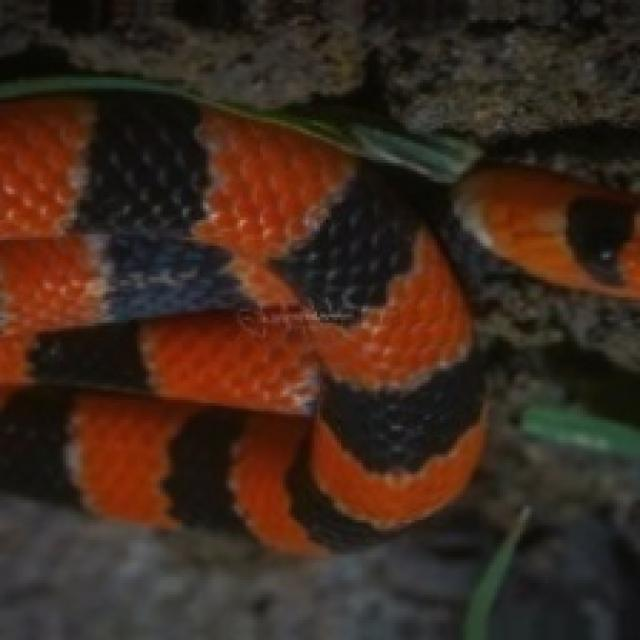barredcoral snake: (0, 77, 637, 551)
